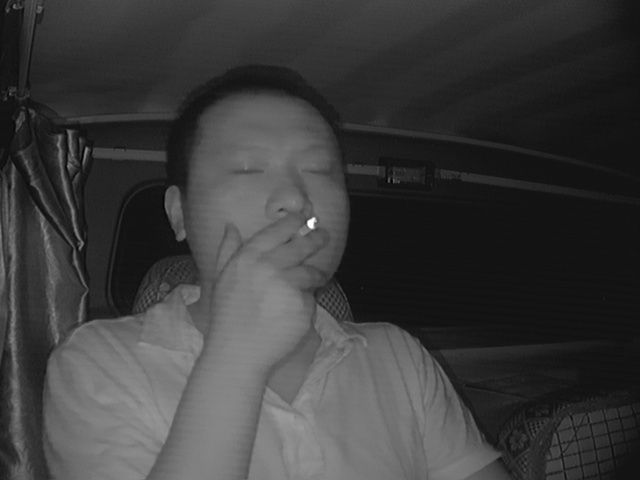hand: (240, 215, 337, 332)
